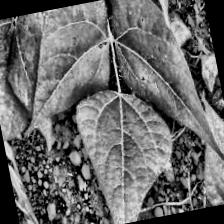ALS: (105, 0, 224, 180), (14, 0, 128, 138), (0, 26, 38, 153), (25, 207, 119, 224)
